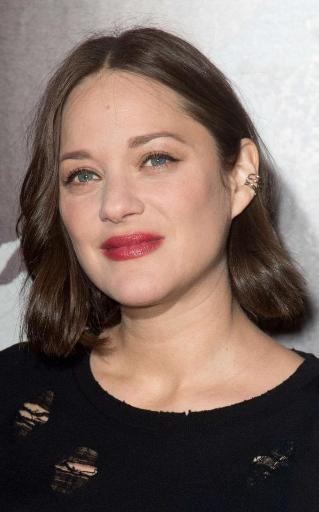left_eye: (140, 152, 183, 174)
left_lip_corner: (157, 231, 171, 246)
right_eye: (66, 169, 103, 190)
right_lip_corner: (98, 242, 108, 257)
